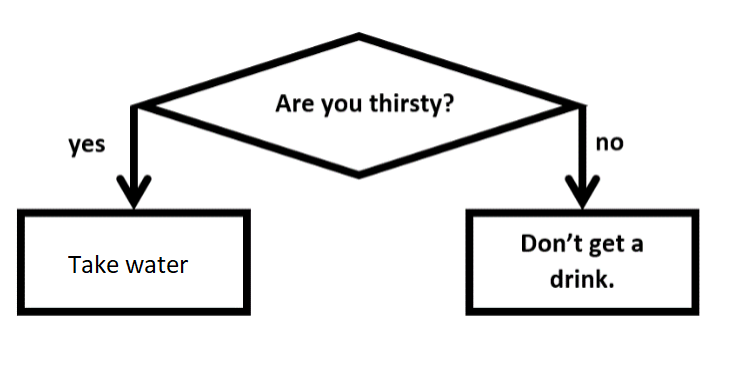arrow: (562, 103, 601, 218), (114, 103, 153, 212)
decision: (130, 30, 590, 180)
process: (10, 205, 253, 318), (459, 205, 702, 318)
text: (519, 229, 643, 291), (271, 88, 458, 121), (66, 252, 189, 273), (64, 133, 108, 160), (591, 133, 627, 154)
